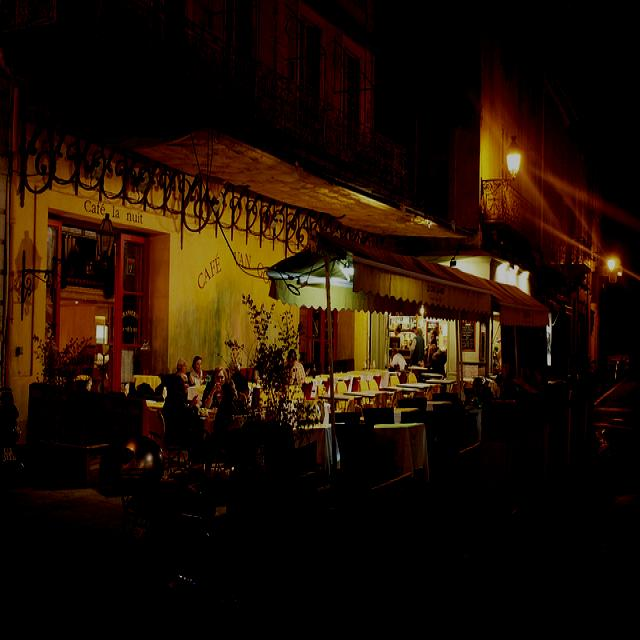Motorbike: (116, 413, 279, 640)
